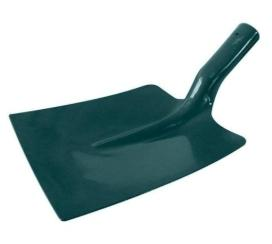PELLE: (0, 16, 268, 244)
